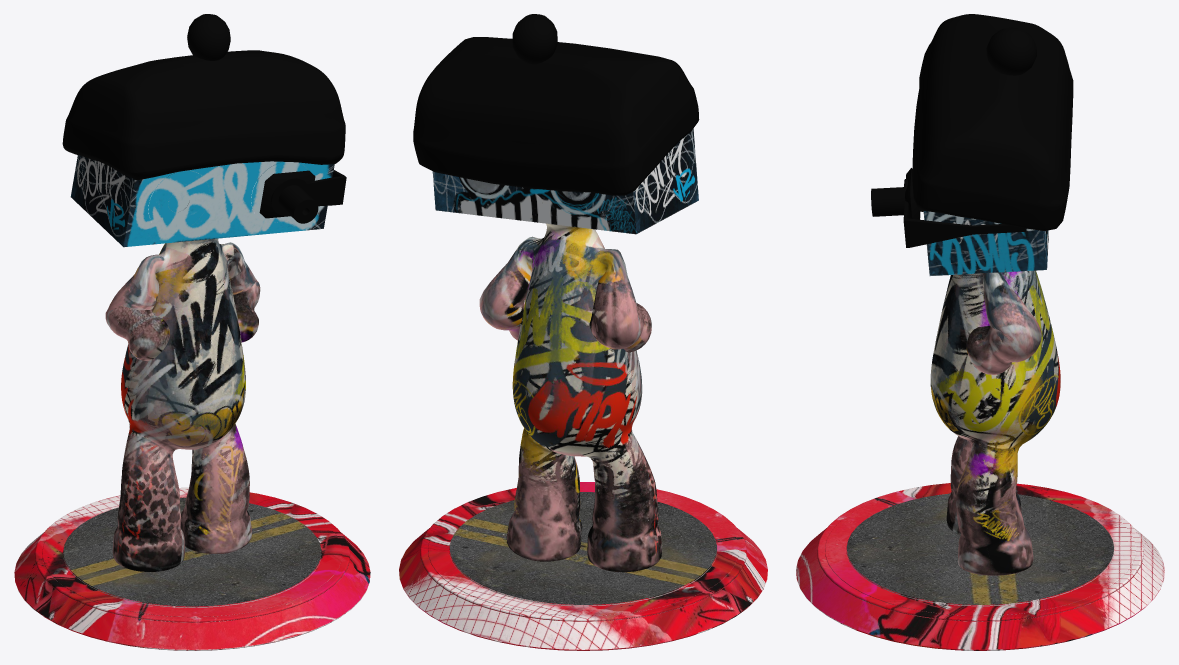
3 renders of one model, left to right at view 1: azimuth 30°, elevation 25°; view 2: azimuth 150°, elevation 25°; view 3: azimuth 270°, elevation 25°, orthographic. The views are drawn at different scales.
Visible parts, largest first — view 1: BBody; view 2: BBody; view 3: BBody.
Boxes of the visible parts, x1,y1,x2,y2 form: BBody: (14, 14, 370, 650); BBody: (399, 14, 767, 650); BBody: (796, 14, 1164, 650).
Size of the model in its own units: 1.45 by 2.42 by 1.45.
Materials: 5 (4 with a texture image).
